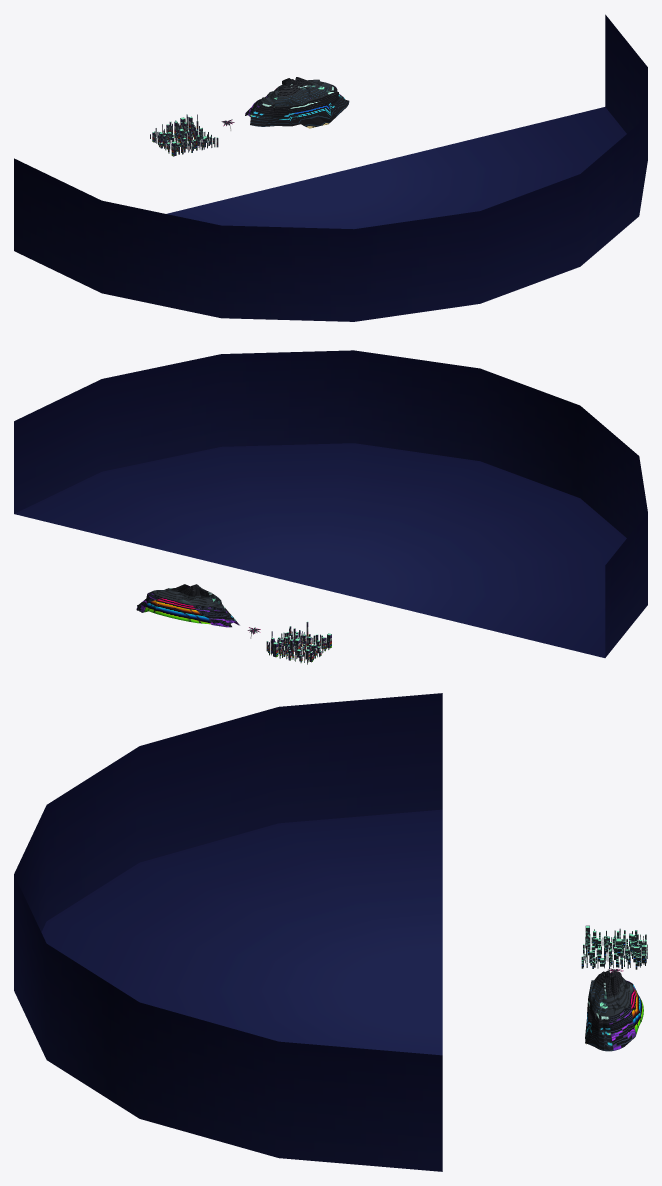
Rendered from assets_t4_a5.fbx.
3 views of the same model, one above another, from view 1: azimuth 30°, elevation 25°; view 2: azimuth 150°, elevation 25°; view 3: azimuth 270°, elevation 25° (orthographic). The views are drawn at different scales.
Parts seen in each view (by area): view 1: ground_t4_era5, godray_t4_era5_2, godray_t4_era5_1; view 2: ground_t4_era5, godray_t4_era5_2, godray_t4_era5_1; view 3: ground_t4_era5, godray_t4_era5_2, godray_t4_era5_1.
Part boxes in pixels (x1=…): ground_t4_era5: x1=14, y1=14, x2=647, y2=321; godray_t4_era5_2: x1=245, y1=77, x2=349, y2=128; godray_t4_era5_1: x1=150, y1=114, x2=218, y2=156; ground_t4_era5: x1=14, y1=350, x2=647, y2=657; godray_t4_era5_2: x1=136, y1=584, x2=239, y2=627; godray_t4_era5_1: x1=266, y1=622, x2=331, y2=664; ground_t4_era5: x1=14, y1=693, x2=442, y2=1171; godray_t4_era5_2: x1=585, y1=970, x2=643, y2=1051; godray_t4_era5_1: x1=581, y1=925, x2=647, y2=969.
Bounding box in the file's own units: 162 × 25.85 × 120.
